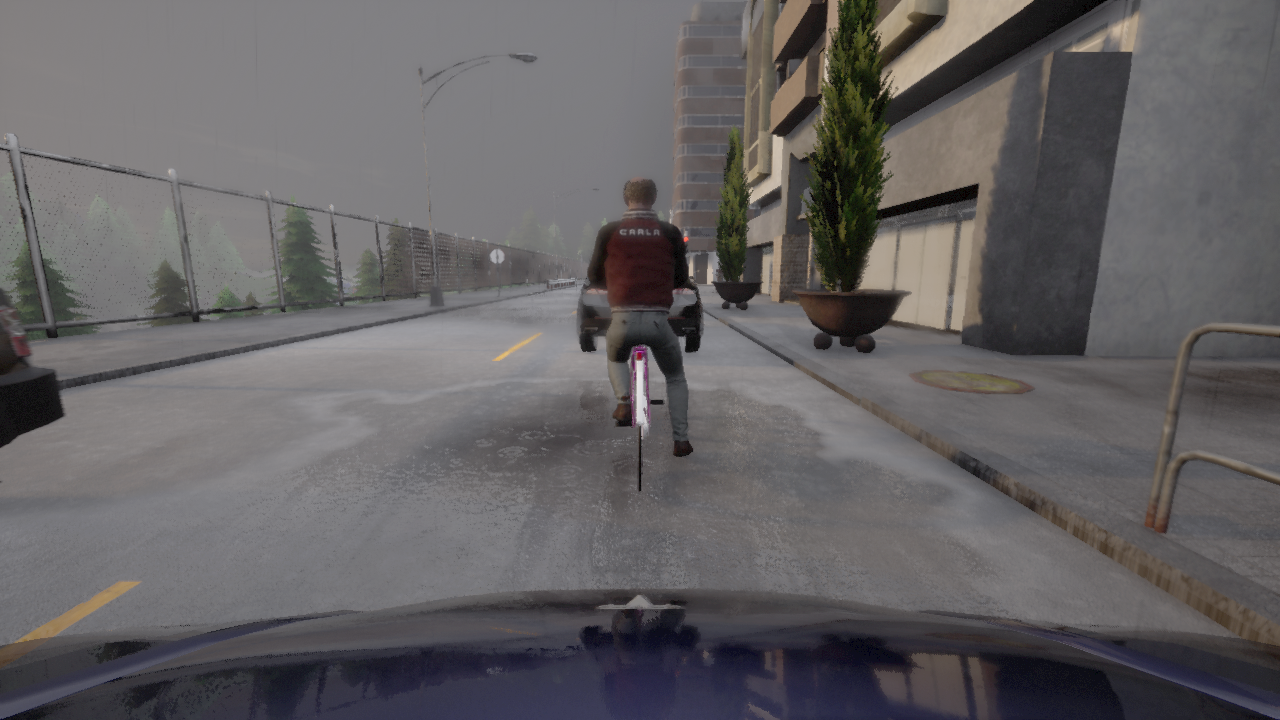cyclist: (0, 588, 1279, 719), (576, 276, 702, 352), (616, 345, 663, 491), (588, 246, 594, 260)
pedestrian: (715, 267, 722, 280)
